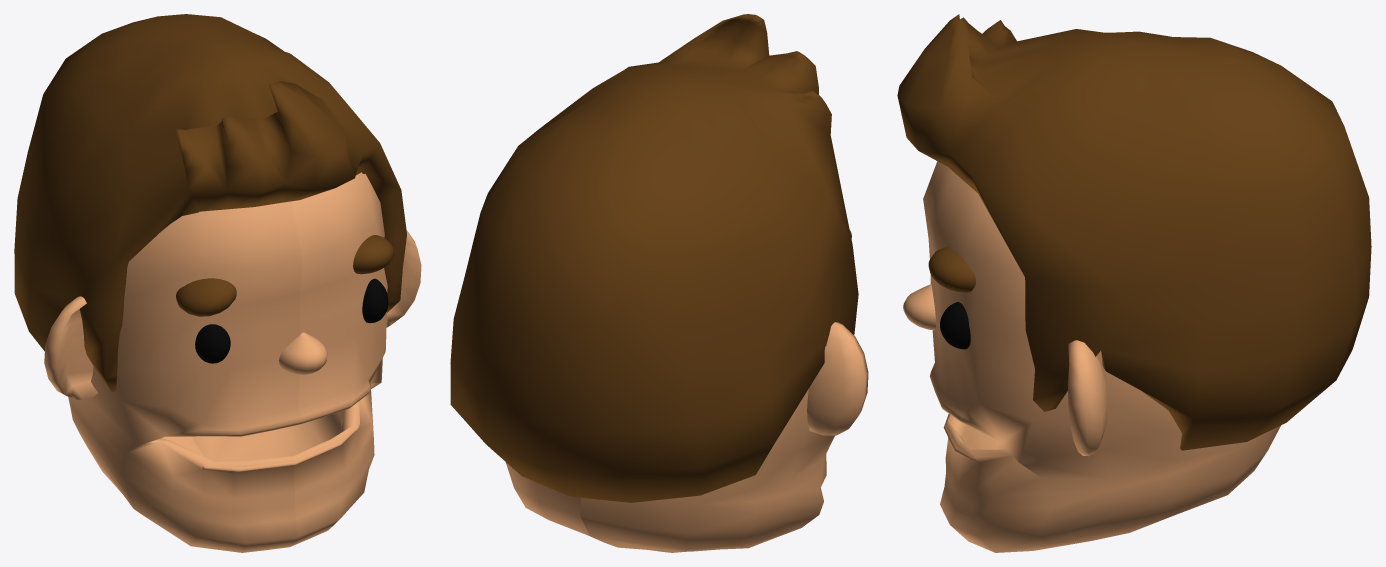
The model's file is head.fbx.
The picture shows the model from 3 angles, left to right: view 1: azimuth 30°, elevation 25°; view 2: azimuth 150°, elevation 25°; view 3: azimuth 270°, elevation 25°; orthographic projection. The views are drawn at different scales.
Visible parts, largest first — view 1: Sphere.015; view 2: Sphere.015; view 3: Sphere.015.
Part boxes in pixels (x1,y1,x2,y2): Sphere.015: [14, 14, 421, 552]; Sphere.015: [450, 14, 868, 552]; Sphere.015: [897, 14, 1371, 552].
Size of the model in its own units: 925 by 1120 by 959.
